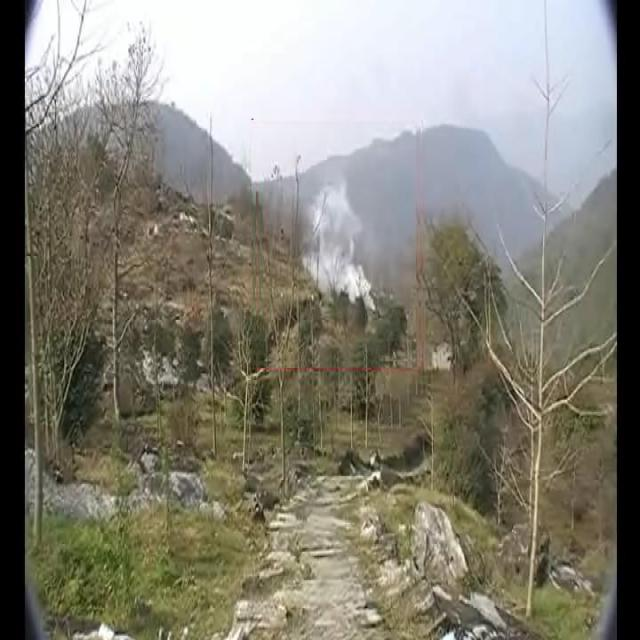smoke: (298, 179, 378, 308)
